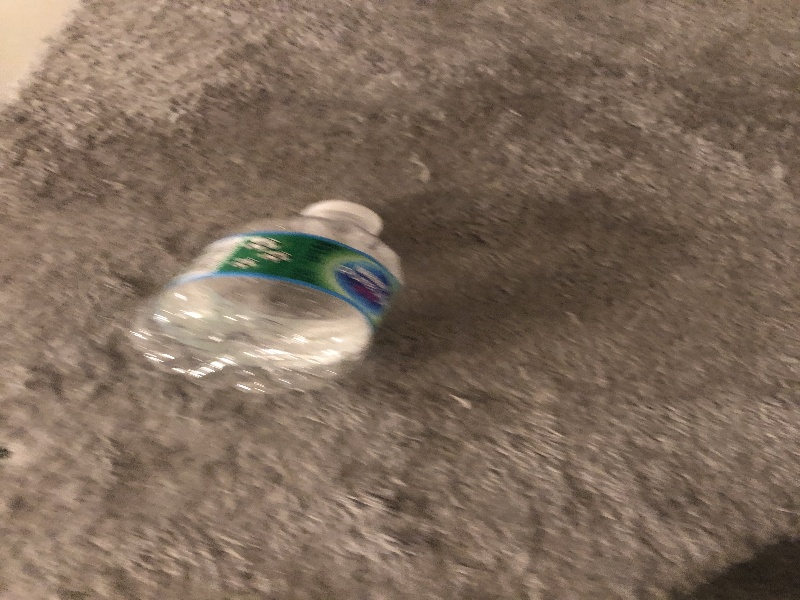plastic: (127, 197, 420, 401)
